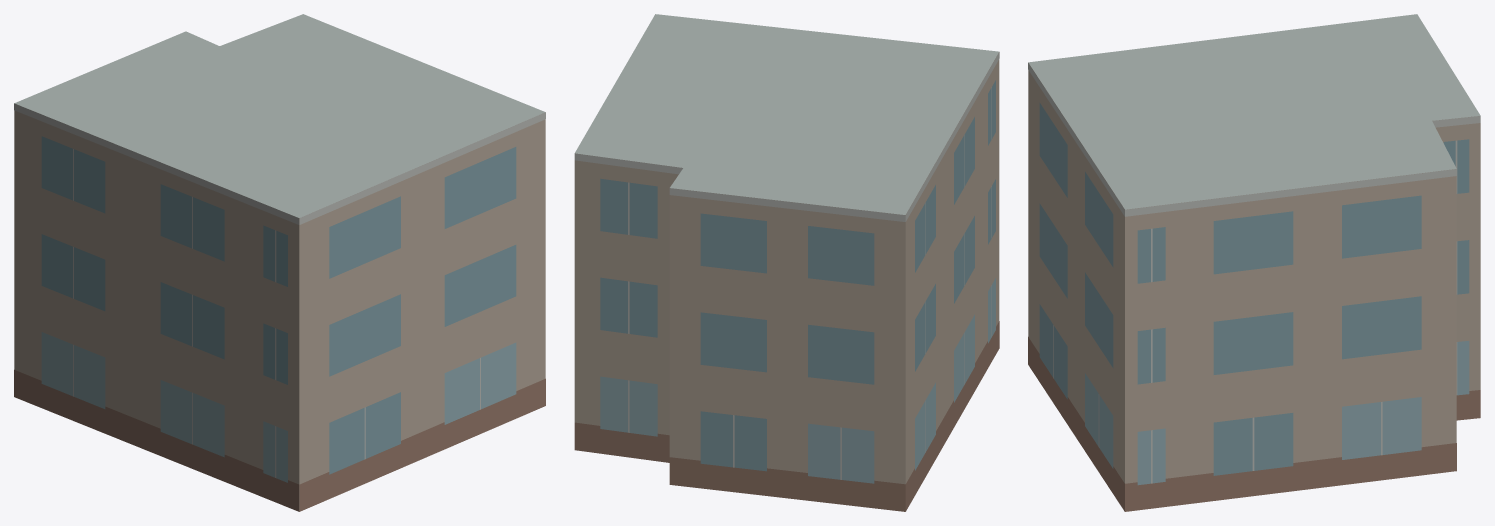
File: survey-upis-33004413.glb
3 renders of one model, left to right at view 1: azimuth 30°, elevation 25°; view 2: azimuth 150°, elevation 25°; view 3: azimuth 270°, elevation 25°, orthographic. The views are drawn at different scales.
Visible parts, largest first — view 1: survey-upis-33004413.tmp; view 2: survey-upis-33004413.tmp; view 3: survey-upis-33004413.tmp.
Part boxes in pixels (x1,y1,x2,y2): survey-upis-33004413.tmp: (14,14,545,511); survey-upis-33004413.tmp: (574,14,999,511); survey-upis-33004413.tmp: (1028,14,1480,511).
Size of the model in its own units: 14.31 by 10.3 by 13.99.
